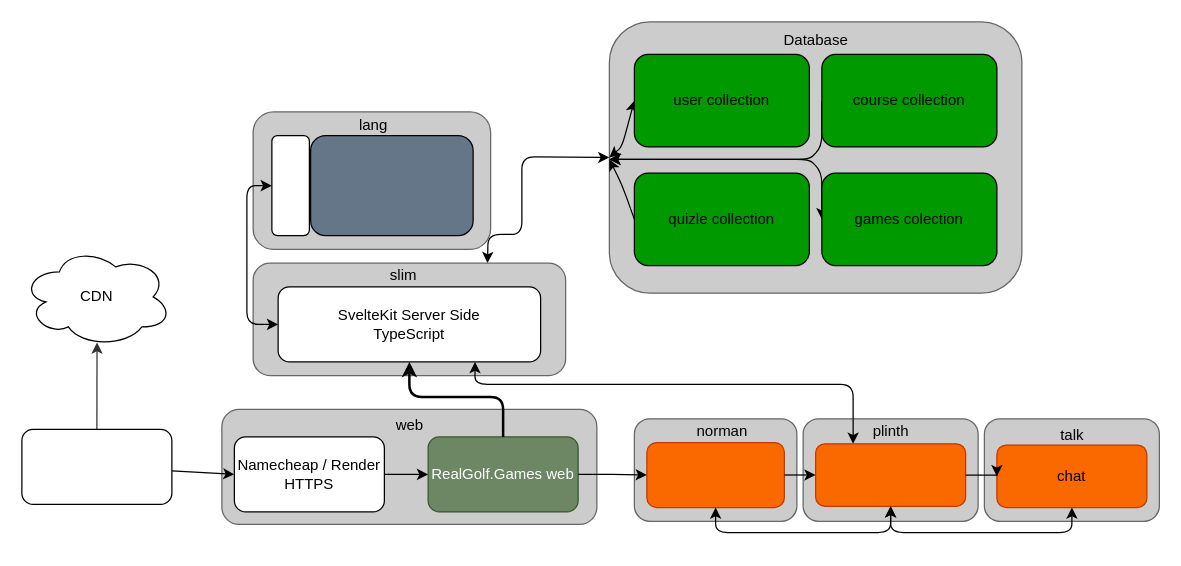
Image size: 1181x566. Some labels were removed from this diagram. The shapes that lost their labels are listed below. From the top down, each one's centre as x and y in pixels, then its label:
At pixel 290 185: "svelte-i18n".
At pixel 391 185: "Crowdin".
At pixel 96 466: "Web Clients".
At pixel 715 474: "node server".
At pixel 890 474: "web sockets".
